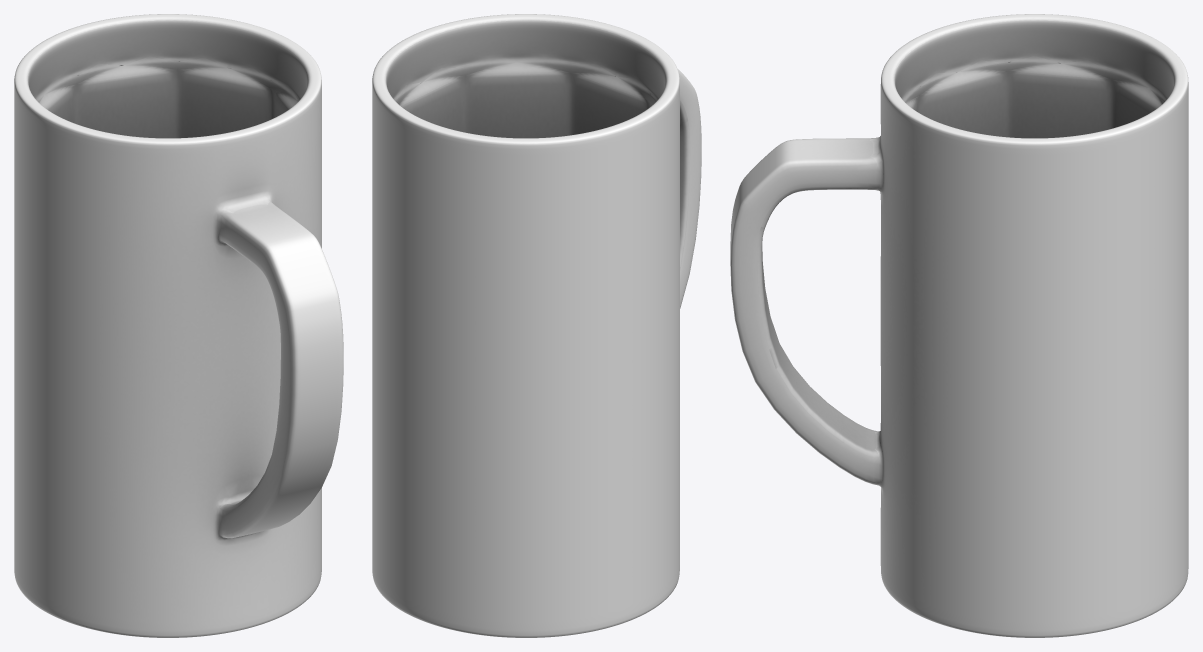
The model's file is cup.gltf.
3 views of the same model, side by side, from view 1: azimuth 30°, elevation 25°; view 2: azimuth 150°, elevation 25°; view 3: azimuth 270°, elevation 25° (orthographic).
Visible parts, largest first — view 1: CUP Clean; view 2: CUP Clean; view 3: CUP Clean.
Boxes of the visible parts, box(x1,y1,x2,y2) form: CUP Clean: box(14, 14, 343, 637); CUP Clean: box(372, 14, 701, 637); CUP Clean: box(730, 14, 1188, 637).
Size of the model in its own units: 0.0815 by 0.145 by 0.1213.
Materials: 1 (1 with a texture image).
